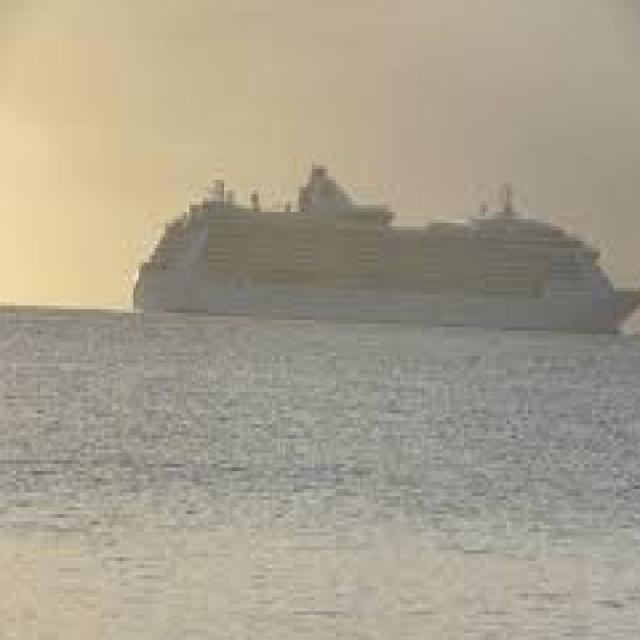passenger ship: (130, 151, 640, 327)
